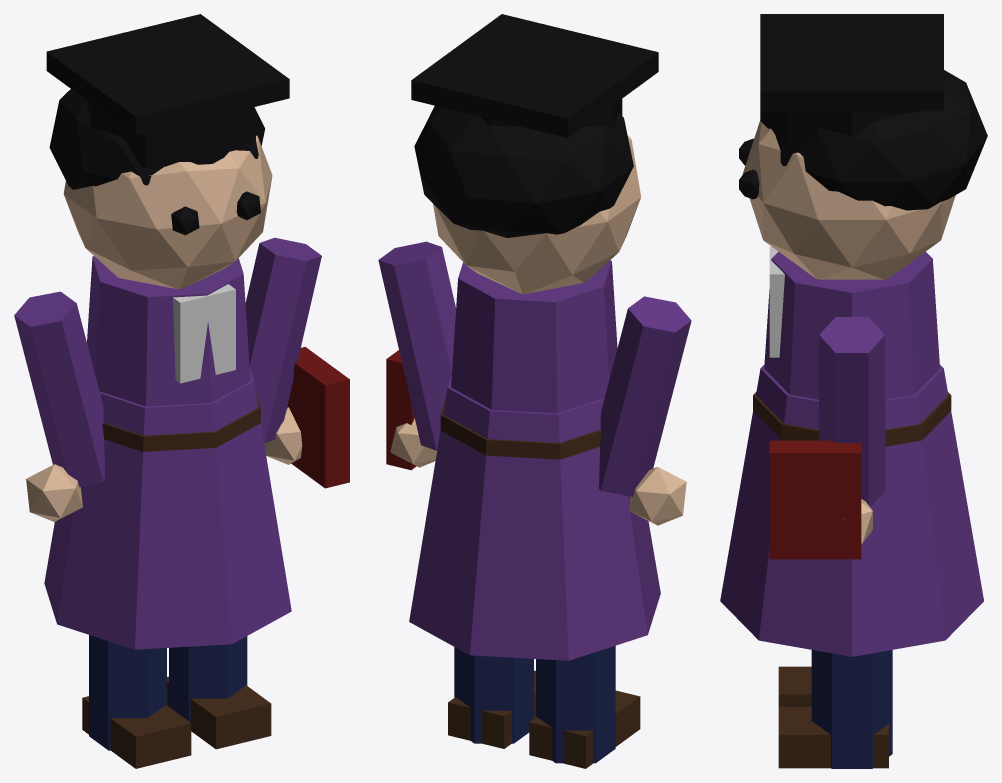
Rendered from SM_GZ_npc_banker.fbx.
3 renders of one model, left to right at view 1: azimuth 30°, elevation 25°; view 2: azimuth 150°, elevation 25°; view 3: azimuth 270°, elevation 25°, orthographic. The views are drawn at different scales.
Visible parts, largest first — view 1: SM_GZ_npc_banker; view 2: SM_GZ_npc_banker; view 3: SM_GZ_npc_banker.
Part boxes in pixels (box(x1,y1,x2,y2)): SM_GZ_npc_banker: box(14, 14, 349, 768); SM_GZ_npc_banker: box(378, 14, 691, 768); SM_GZ_npc_banker: box(720, 14, 987, 768).
Bounding box in the file's own units: 94.71 × 205 × 73.
